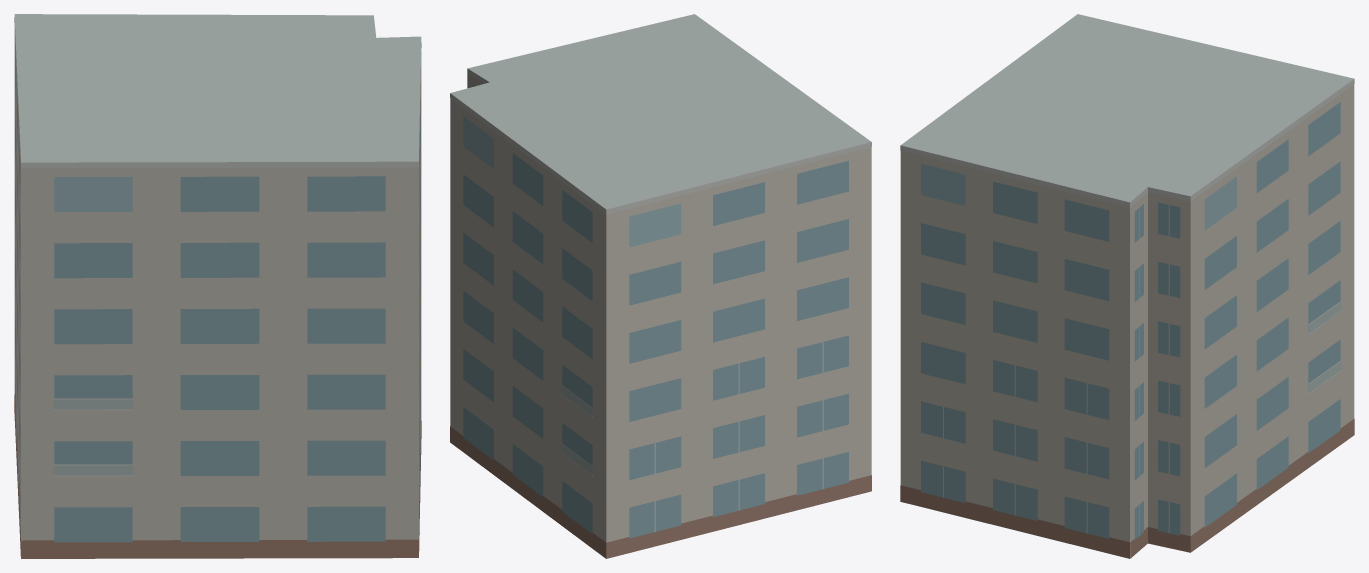
The model's file is survey-upis-32890027.glb.
3 renders of one model, left to right at view 1: azimuth 30°, elevation 25°; view 2: azimuth 150°, elevation 25°; view 3: azimuth 270°, elevation 25°, orthographic. The views are drawn at different scales.
Parts seen in each view (by area): view 1: survey-upis-32890027.tmp; view 2: survey-upis-32890027.tmp; view 3: survey-upis-32890027.tmp.
Part boxes in pixels (bbox=[...]): survey-upis-32890027.tmp: bbox=[14, 14, 421, 558]; survey-upis-32890027.tmp: bbox=[450, 14, 871, 558]; survey-upis-32890027.tmp: bbox=[900, 14, 1354, 558].
Size of the model in its own units: 19.18 by 16.9 by 19.52.
